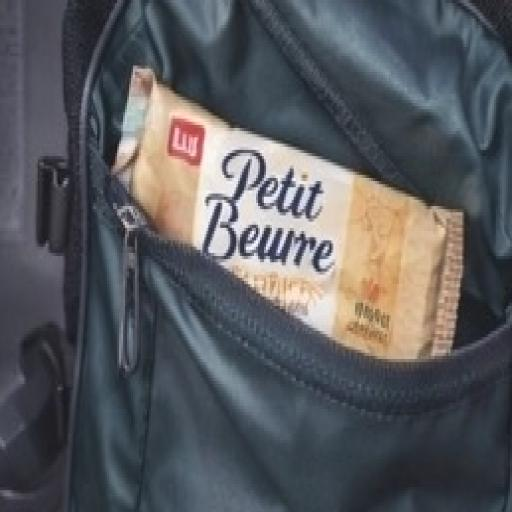petit-beurre: (79, 19, 488, 412)
